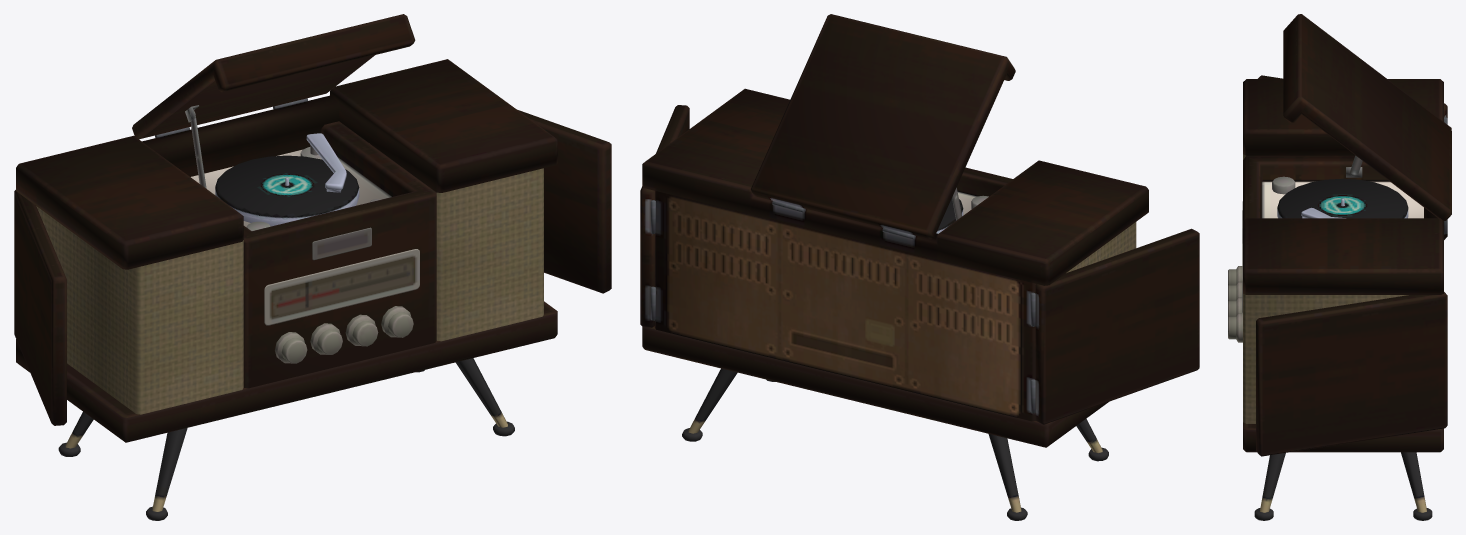
The model's file is stereoretro.glb.
3 renders of one model, left to right at view 1: azimuth 30°, elevation 25°; view 2: azimuth 150°, elevation 25°; view 3: azimuth 270°, elevation 25°, orthographic. The views are drawn at different scales.
Parts seen in each view (by area): view 1: arm_low__mReBody; view 2: arm_low__mReBody; view 3: arm_low__mReBody.
Boxes of the visible parts, box(x1,y1,x2,y2) form: arm_low__mReBody: box(14, 14, 611, 520); arm_low__mReBody: box(640, 14, 1199, 520); arm_low__mReBody: box(1228, 14, 1451, 520).
Bounding box in the file's own units: 17.66 × 12.74 × 6.72.
Materials: 1 (1 with a texture image).
